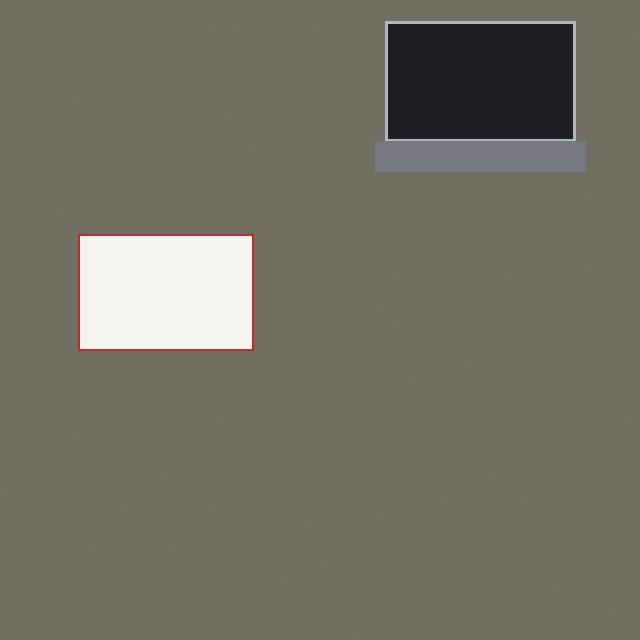book: (78, 234, 253, 350)
laptop: (385, 21, 575, 171)
